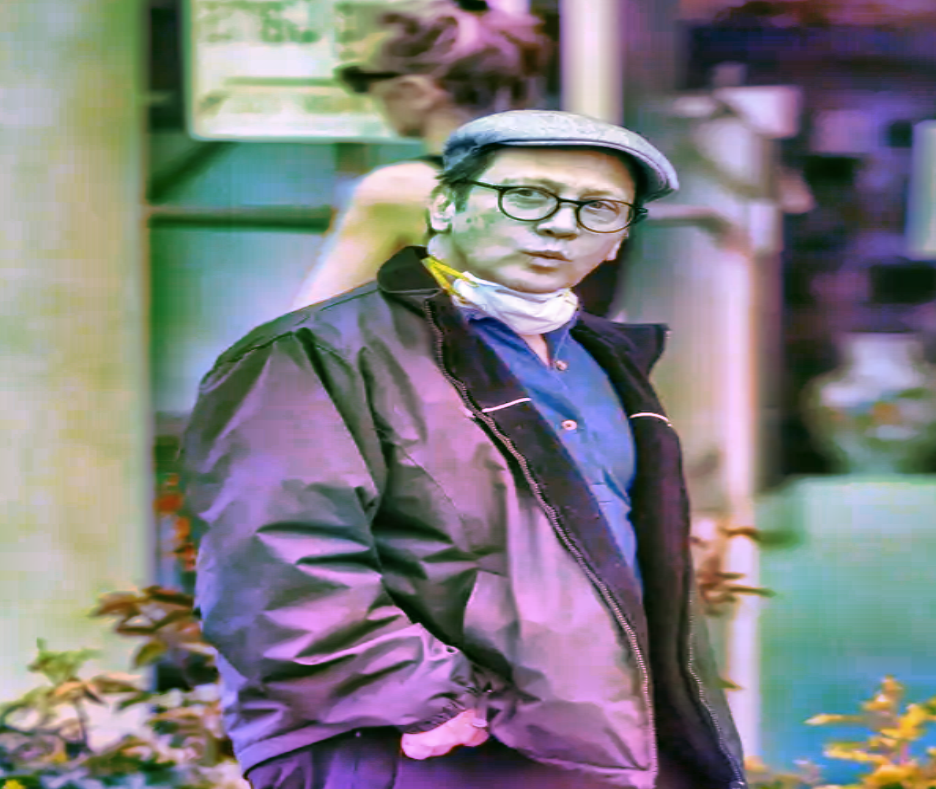mask_weared_incorrect: (398, 104, 680, 339)
